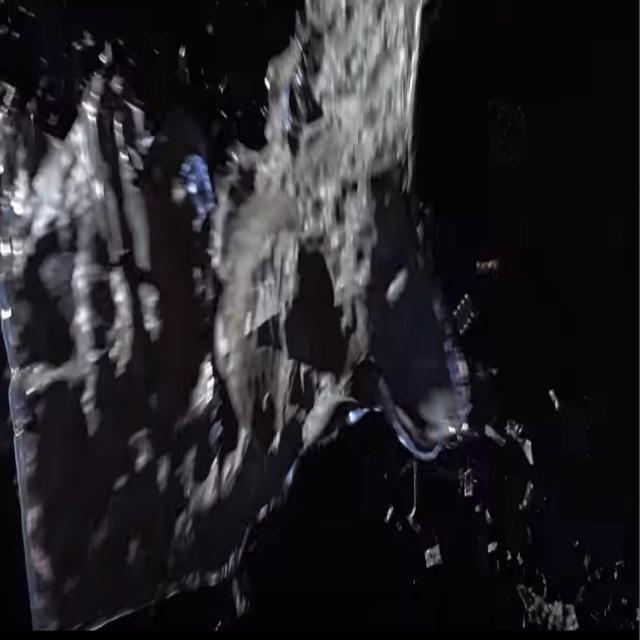large_debris: (1, 4, 471, 602), (374, 458, 434, 538), (482, 409, 549, 470), (519, 580, 587, 640), (413, 537, 464, 595), (446, 279, 482, 341), (459, 472, 495, 534), (514, 487, 544, 522)
